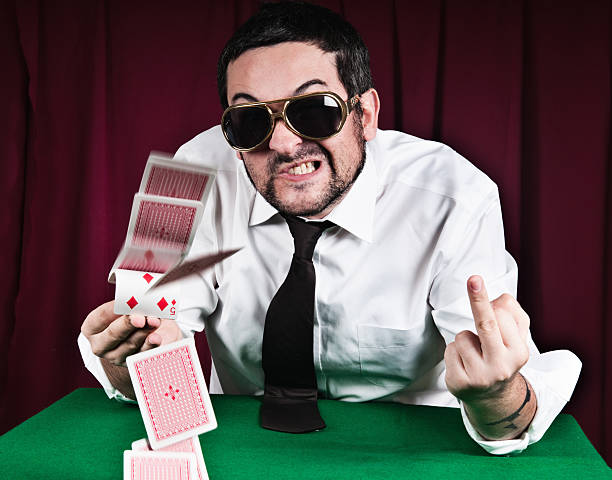insulting_gesture: (440, 272, 532, 401)
